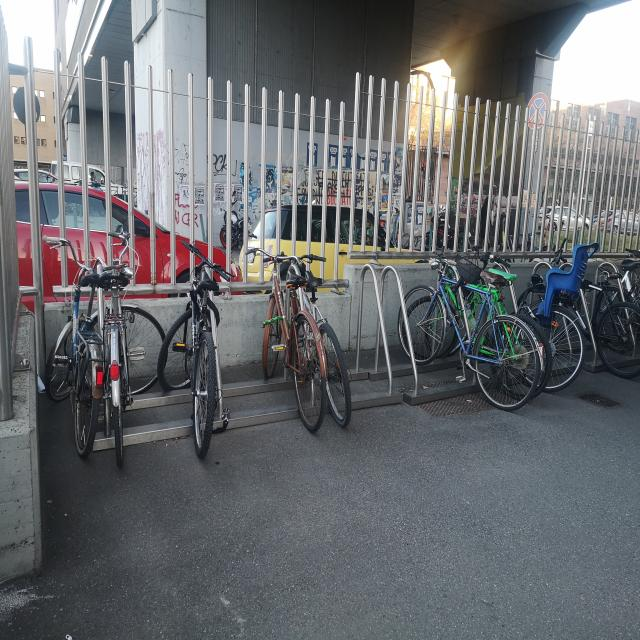Bicycle: (146, 238, 255, 478), (406, 255, 535, 444), (451, 255, 555, 414), (490, 238, 590, 394), (258, 228, 324, 454), (297, 250, 369, 441), (98, 243, 155, 463), (54, 229, 103, 459), (568, 228, 640, 383)
